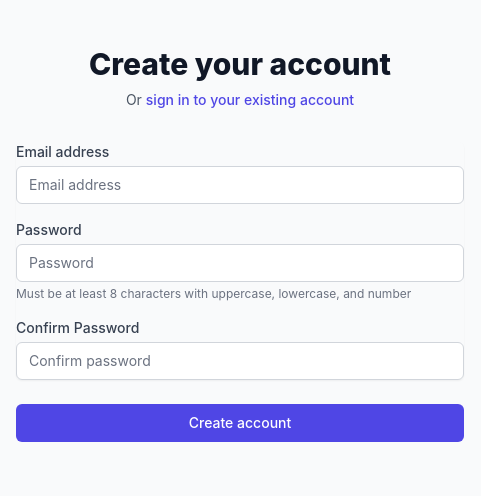
Test case: Signup Component › should show error when passwords do not match
This screenshot has width=481, height=496.
Type "Password123" into the password field labelled "Password" at (240, 263), box [16,244,464,282]
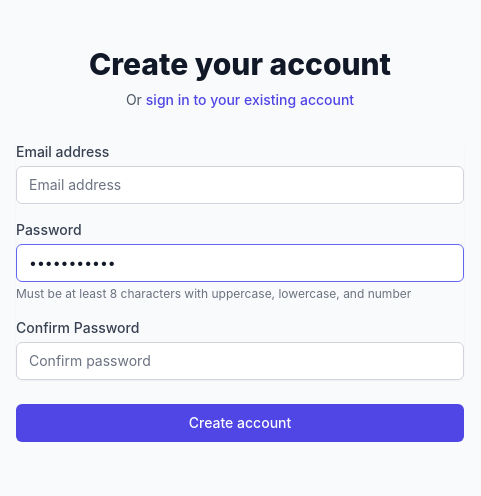
Type "DifferentPassword" into the password field labelled "Confirm Password" at (240, 361), box [16,342,464,380]
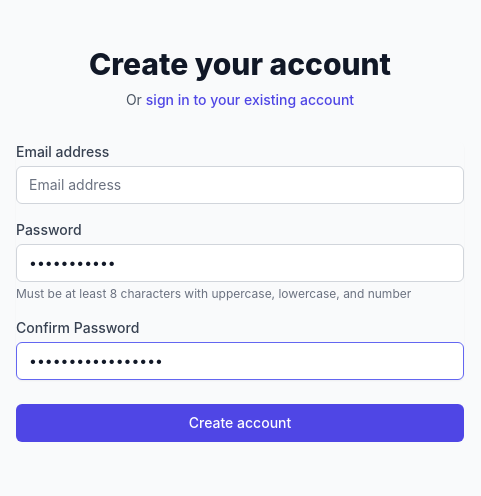
Submit the form named "create account", box [16,142,464,442]
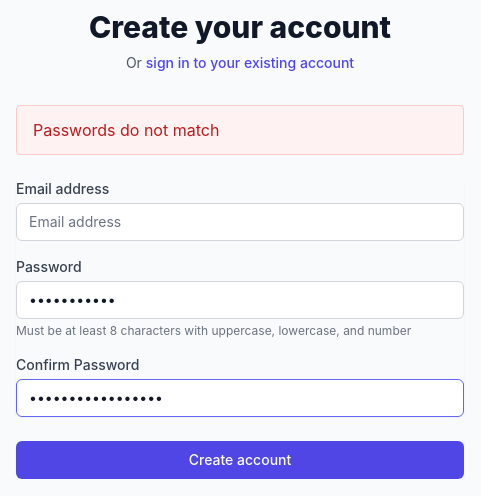
Expected: the message reads "Passwords do not match", [33,120,219,140]
